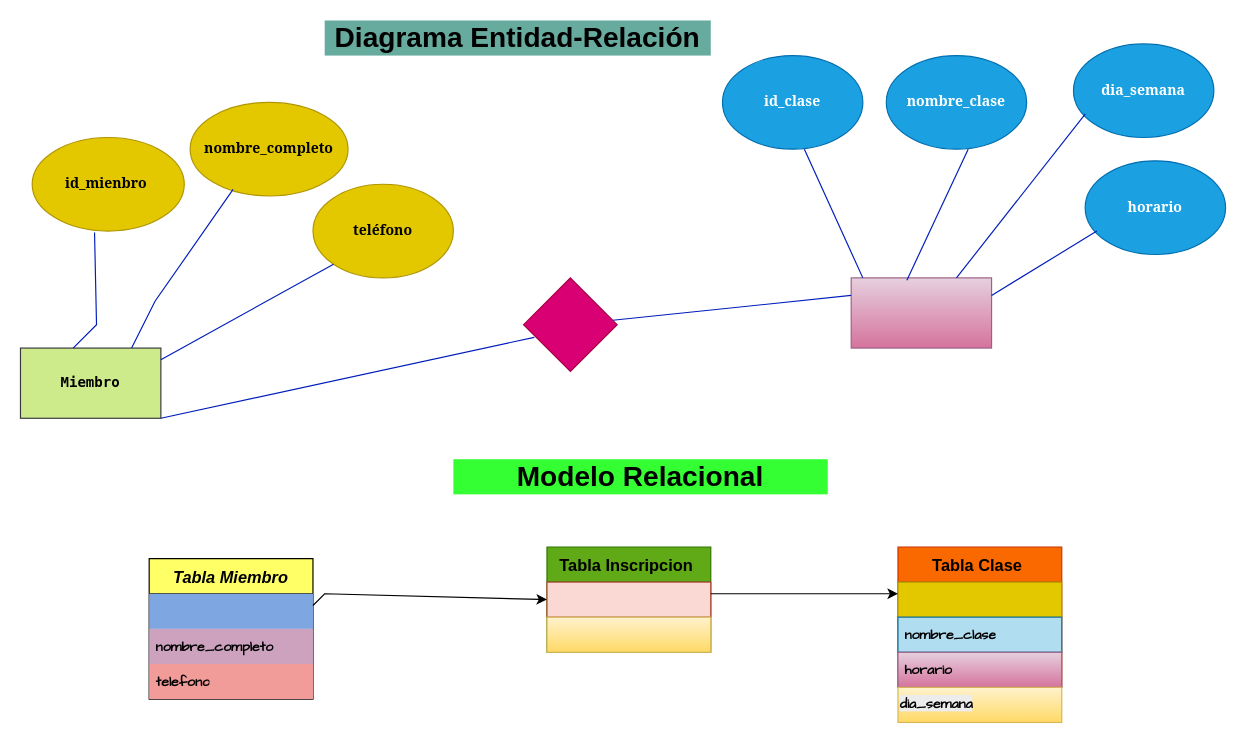
Some shapes in this 1246 by 743 pixel diagram are drawn without their labels. The centre of each missing label's shape, as x and y in pixels:
Clase: [921,312]
clase_id FK: [628,634]
id_clase PK: [979,599]
id_miembro PK: [230,610]
Inscripcion: [569,324]
miembro_id FK: [628,599]
